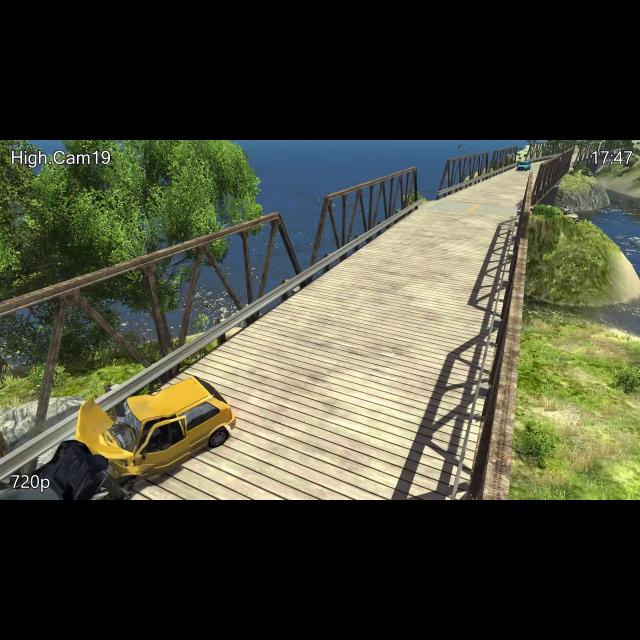accident: (7, 367, 238, 505)
